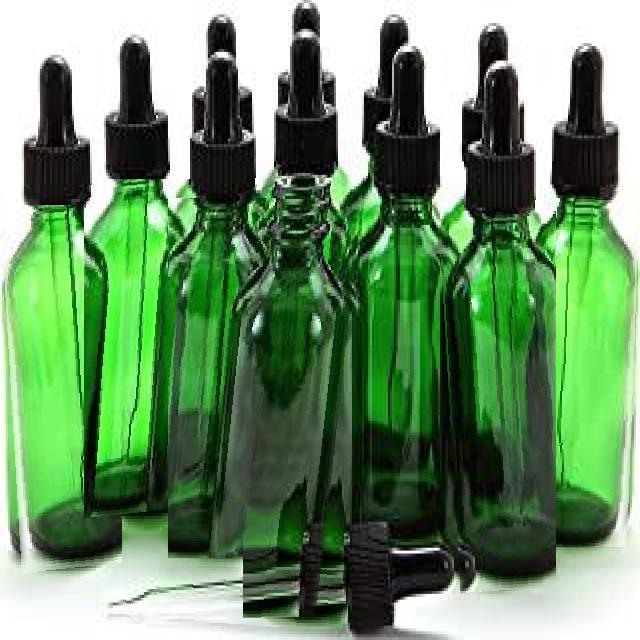Glass: (243, 173, 365, 618), (438, 211, 556, 593), (0, 206, 122, 574), (527, 186, 640, 547), (168, 198, 280, 559), (84, 179, 202, 521), (108, 563, 348, 627)
